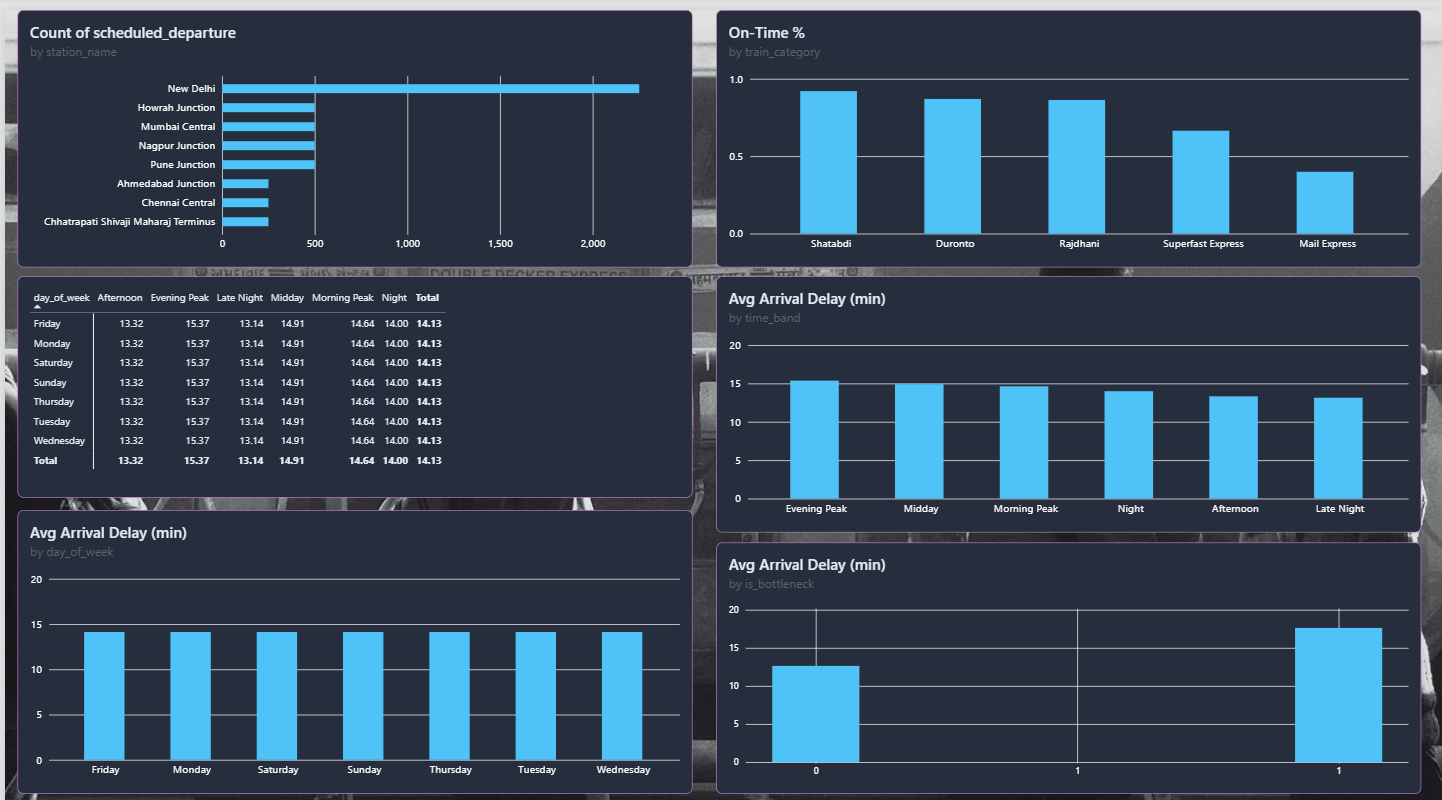

Layout of this report page (visuals, bound fields, positions):
{"tool":"powerbi","page":{"name":"Page 2","canvas":[1920,1080],"ordinal":1},"visuals":[{"type":"barChart","fields":{"Category":["dim_station.station_name"],"Y":["CountNonNull(fact_train_runs.scheduled_departure)"]},"box":[16.7,0,900,343.3],"z":0},{"type":"clusteredColumnChart","fields":{"Category":["dim_station.is_bottleneck"],"Y":["dim_date.Avg Arrival Delay (min)"]},"box":[948.3,710,940,335],"z":1000},{"type":"columnChart","fields":{"Category":["dim_date.day_of_week"],"Y":["dim_date.Avg Arrival Delay (min)"]},"box":[16.7,666.7,900,378.3],"z":2000},{"type":"clusteredColumnChart","fields":{"Category":["dim_train.train_category"],"Y":["dim_date.On-Time %"]},"box":[948.3,0,940,343.3],"z":3000},{"type":"columnChart","fields":{"Category":["fact_train_runs.time_band"],"Y":["dim_date.Avg Arrival Delay (min)"]},"box":[948.3,355,940,341.7],"z":4000},{"type":"pivotTable","fields":{"Columns":["fact_train_runs.time_band"],"Rows":["dim_date.day_of_week"],"Values":["dim_date.Avg Arrival Delay (min)"]},"box":[16.7,355,900,295],"z":5000}]}

Visuals, with their boxes in screenshot pixels (x1, y1, x2, y2), scaled from the page's 1920x1080 canvas onto the 1442x800 screenshot:
barChart - dim_station.station_name x CountNonNull(fact_train_runs.scheduled_departure): x1=13, y1=0, x2=688, y2=254
clusteredColumnChart - dim_station.is_bottleneck x dim_date.Avg Arrival Delay (min): x1=712, y1=526, x2=1418, y2=774
columnChart - dim_date.day_of_week x dim_date.Avg Arrival Delay (min): x1=13, y1=494, x2=688, y2=774
clusteredColumnChart - dim_train.train_category x dim_date.On-Time %: x1=712, y1=0, x2=1418, y2=254
columnChart - fact_train_runs.time_band x dim_date.Avg Arrival Delay (min): x1=712, y1=263, x2=1418, y2=516
pivotTable - fact_train_runs.time_band x dim_date.day_of_week: x1=13, y1=263, x2=688, y2=481
